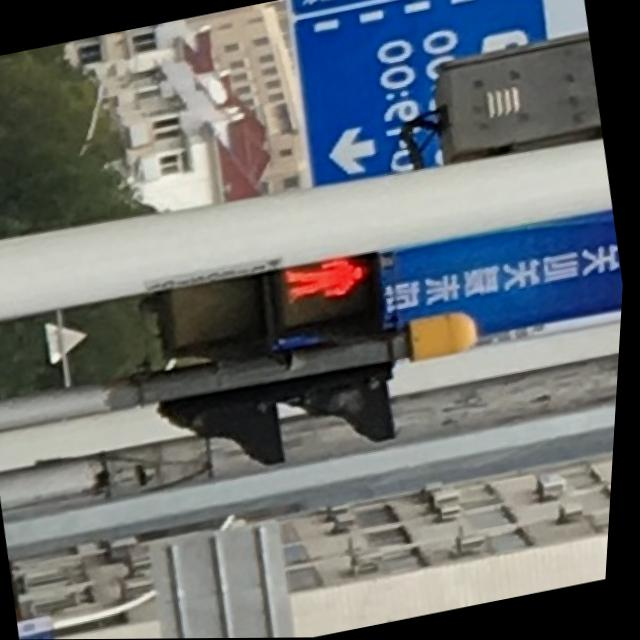red_light: (283, 249, 384, 335)
